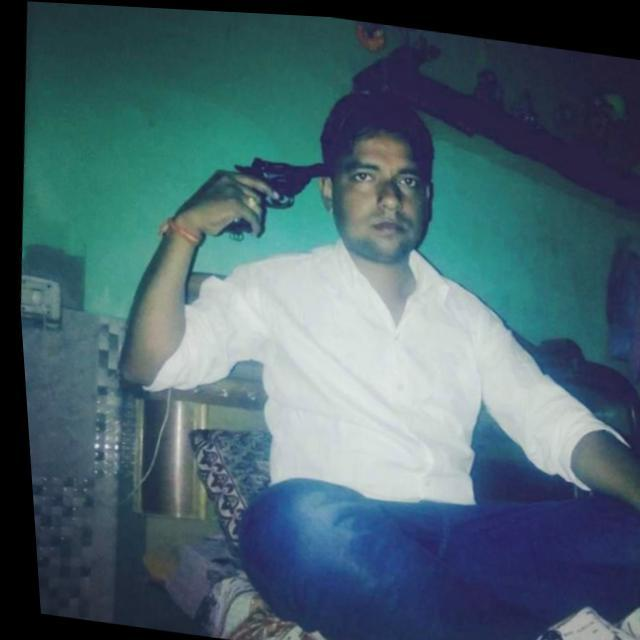weapon: (202, 138, 346, 252)
